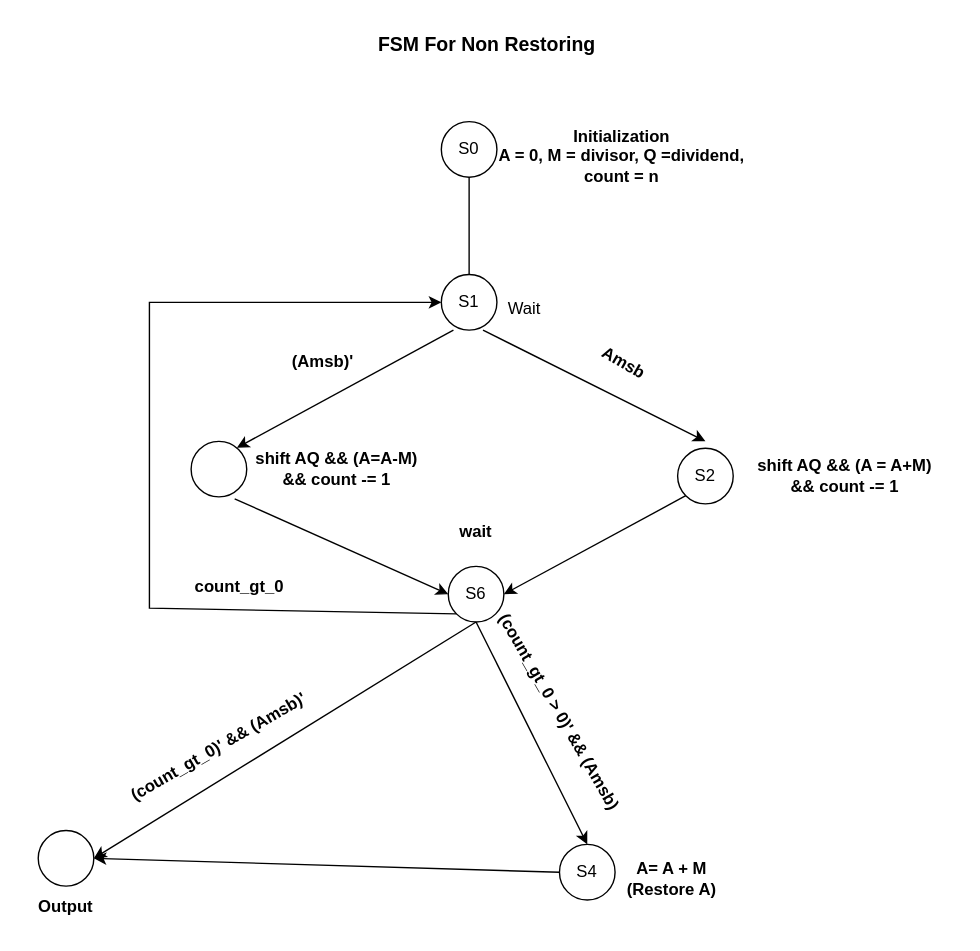
Image size: 980x951. Some labels were removed from this diagram. Here are the shapes that lost their labels. From the top down, the centre of each, then its label:
(x=218, y=468): S3
(x=65, y=857): S5
